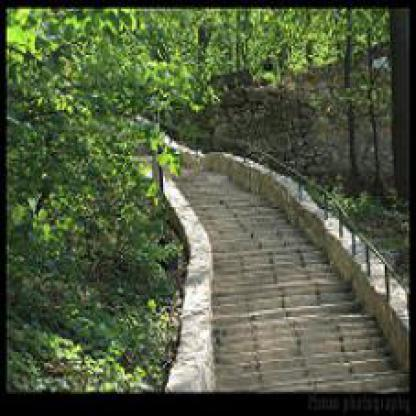stair_up: (158, 160, 374, 332)
